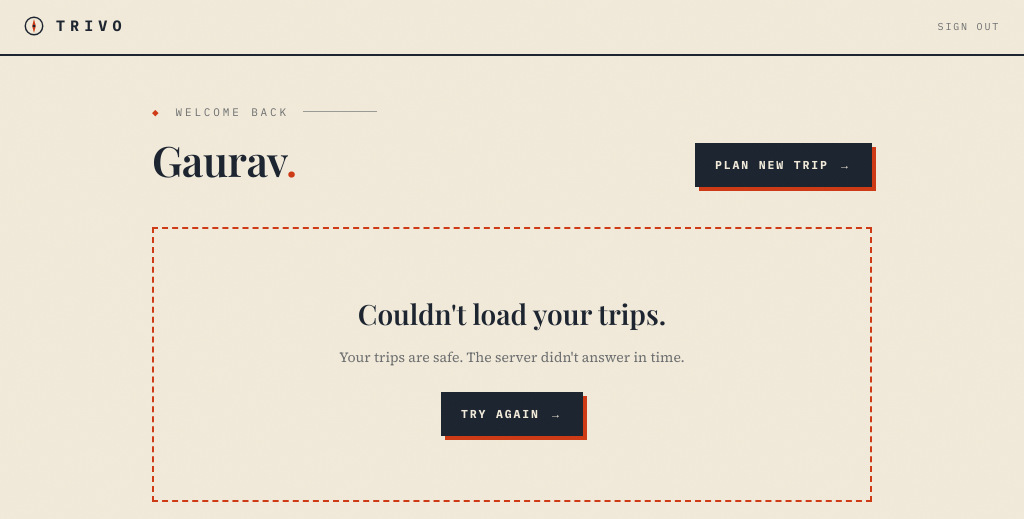
Scenario: dashboard trip list › retries when asked, and renders the trips
Click the button "Try again →" at (512, 414), box [441,392,583,436]
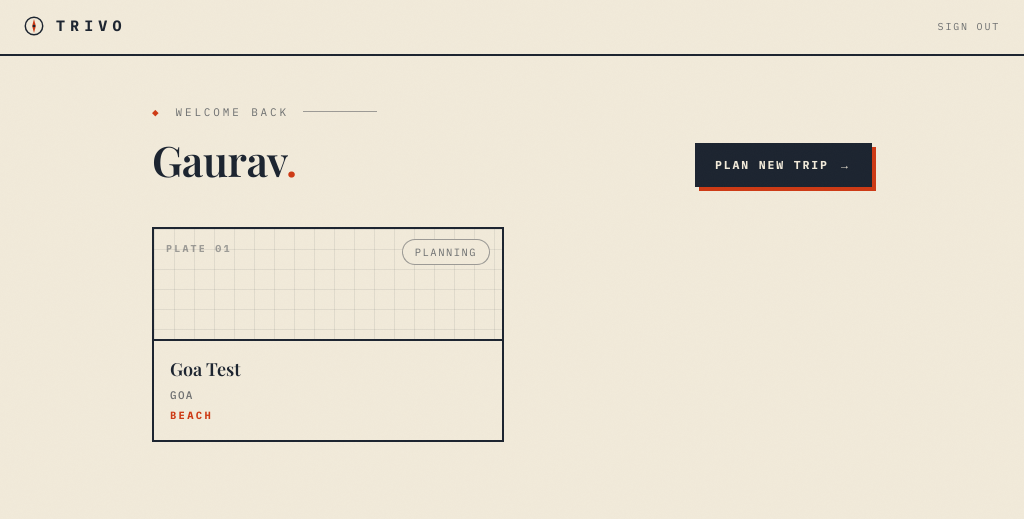
Now the text "Goa Test" is shown, box [170,356,241,380]
